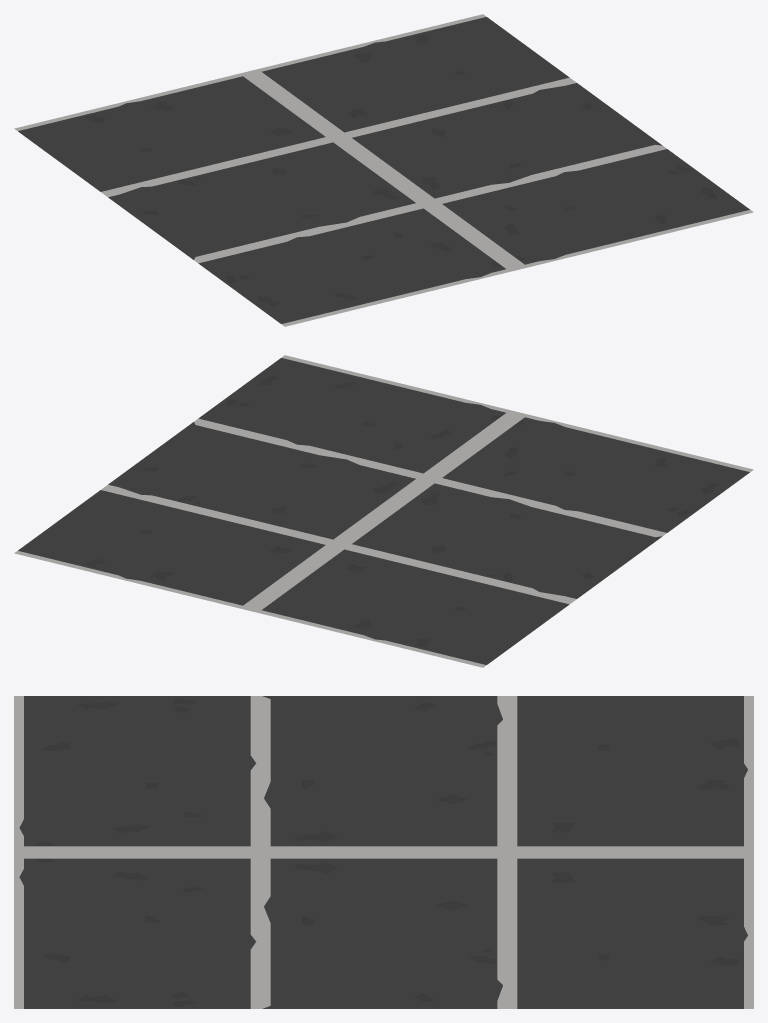
Rendered from SM_Gen_Env_Road_Parking_03.glb.
3 views of the same model, one above another, from view 1: azimuth 30°, elevation 25°; view 2: azimuth 150°, elevation 25°; view 3: azimuth 270°, elevation 25° (orthographic). The views are drawn at different scales.
Visible parts, largest first — view 1: SM_Gen_Env_Road_Parking_032; view 2: SM_Gen_Env_Road_Parking_032; view 3: SM_Gen_Env_Road_Parking_032.
Boxes of the visible parts, x1,y1,x2,y2 form: SM_Gen_Env_Road_Parking_032: (14, 14, 753, 326); SM_Gen_Env_Road_Parking_032: (14, 355, 753, 667); SM_Gen_Env_Road_Parking_032: (14, 696, 753, 1008).
Size of the model in its own units: 10 by 0 by 10.
Materials: 1 (1 with a texture image).
